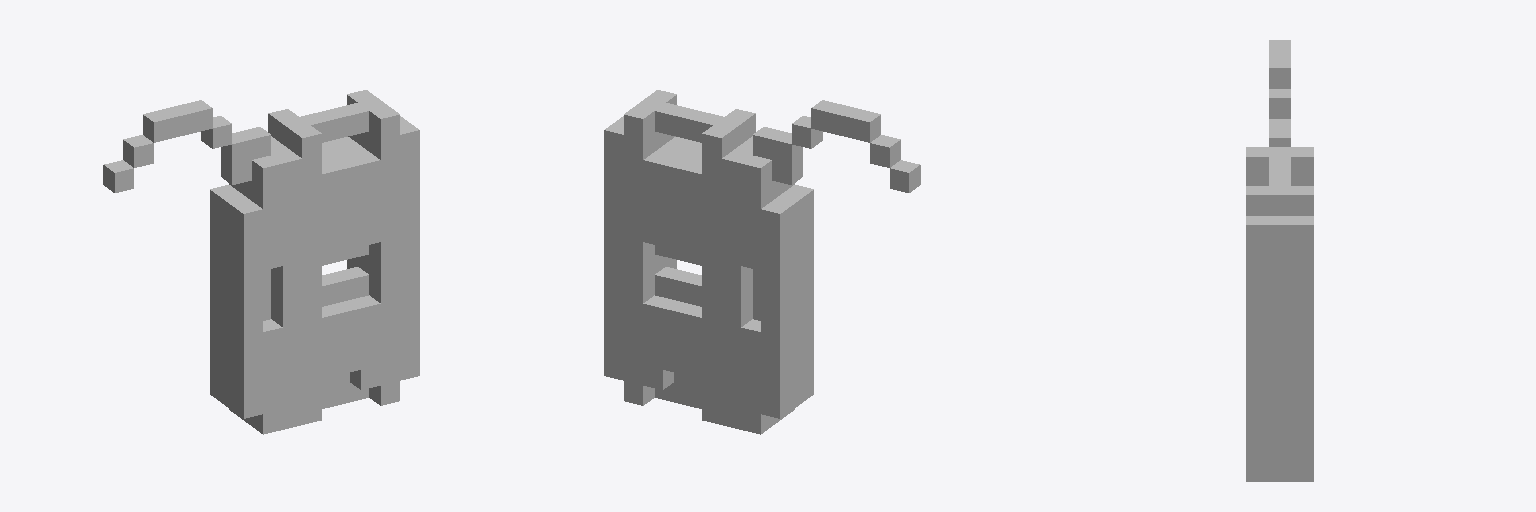
The model's file is Gas Tank.obj.
3 views of the same model, side by side, from view 1: azimuth 30°, elevation 25°; view 2: azimuth 150°, elevation 25°; view 3: azimuth 270°, elevation 25° (orthographic).
Parts seen in each view (by area): view 1: Model; view 2: Model; view 3: Model.
Part boxes in pixels (x1,y1,x2,y2): Model: (103,90,419,434); Model: (604,90,920,434); Model: (1246,40,1313,481).
Bounding box in the file's own units: 15 × 16 × 3.